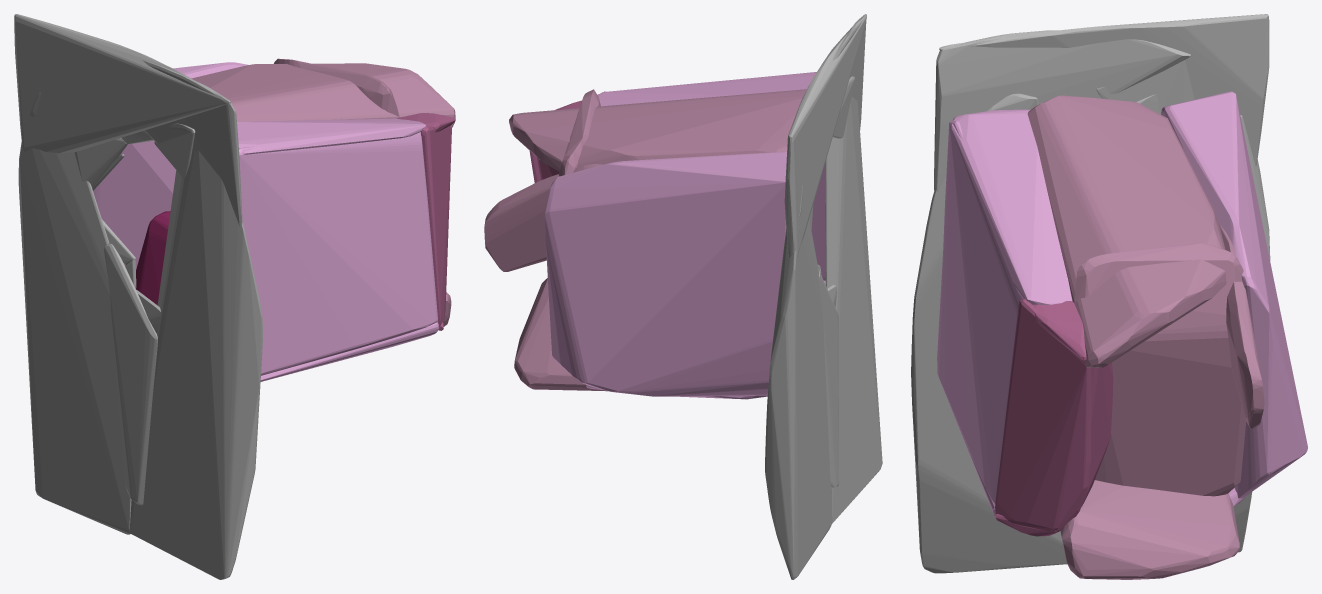
Rendered from Dimensional_break.glb.
The picture shows the model from 3 angles, left to right: view 1: azimuth 30°, elevation 25°; view 2: azimuth 150°, elevation 25°; view 3: azimuth 270°, elevation 25°; orthographic projection. The views are drawn at different scales.
Visible parts, largest first — view 1: brush_MatteHull_g0_b0; view 2: brush_MatteHull_g0_b0; view 3: brush_MatteHull_g0_b0.
Part boxes in pixels (x1,y1,x2,y2): brush_MatteHull_g0_b0: (14,14,455,579); brush_MatteHull_g0_b0: (484,14,882,579); brush_MatteHull_g0_b0: (911,14,1307,579).
Size of the model in its own units: 3.99 by 5.05 by 3.35.
